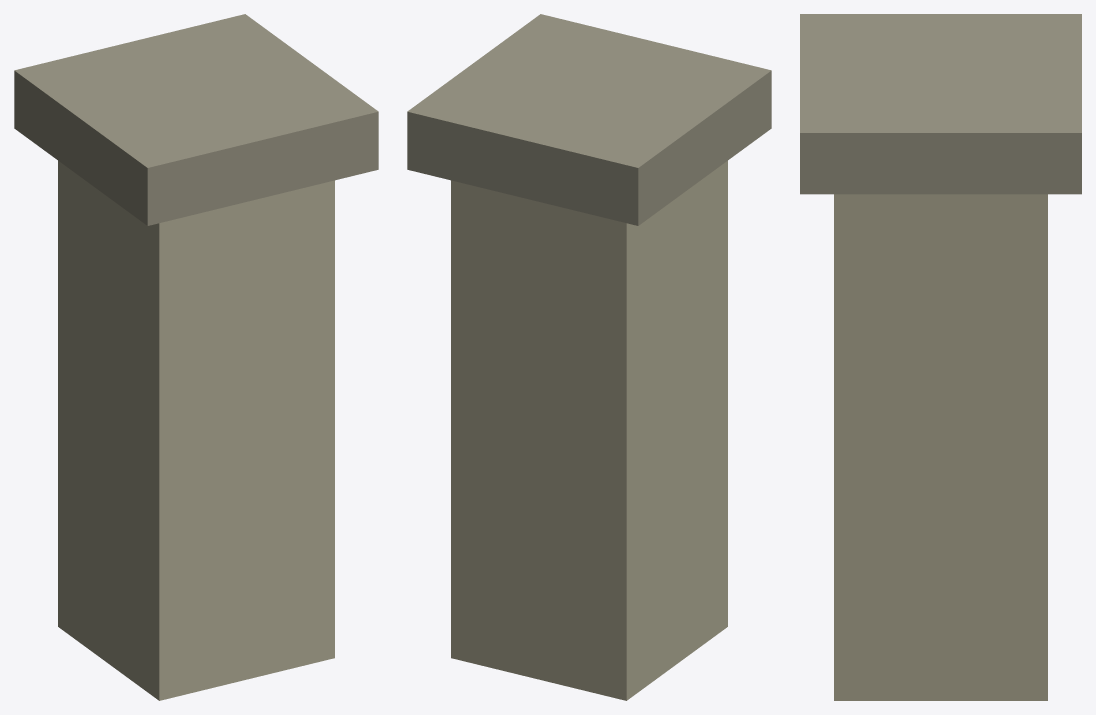
File: WP_A22_balustrade_post_v02.glb
3 views of the same model, side by side, from view 1: azimuth 30°, elevation 25°; view 2: azimuth 150°, elevation 25°; view 3: azimuth 270°, elevation 25° (orthographic). The views are drawn at different scales.
Visible parts, largest first — view 1: Post; view 2: Post; view 3: Post.
Boxes of the visible parts, bbox=[...] form: Post: bbox=[14, 14, 378, 700]; Post: bbox=[407, 14, 771, 700]; Post: bbox=[800, 14, 1081, 700].
Size of the model in its own units: 0.5 by 1.14 by 0.5.
